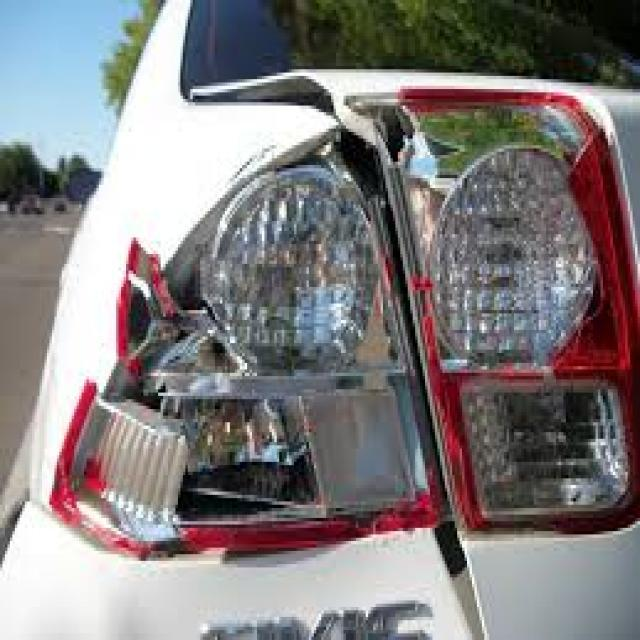damaged-tail-light: (60, 82, 640, 558)
